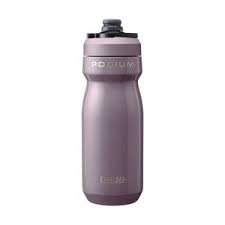bottle: (79, 15, 146, 209)
